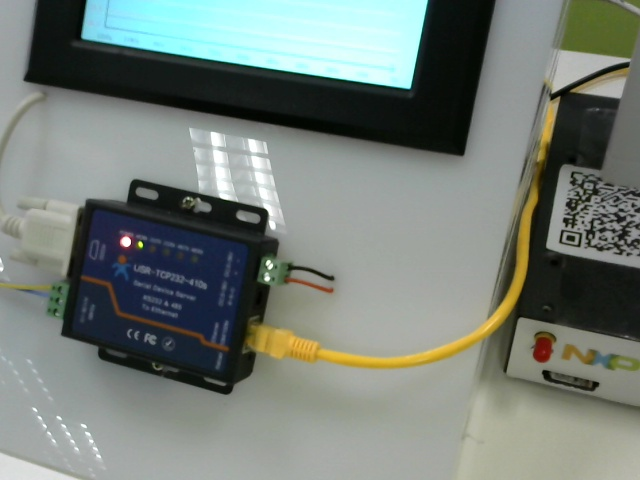modbus bridge: (52, 153, 290, 413)
